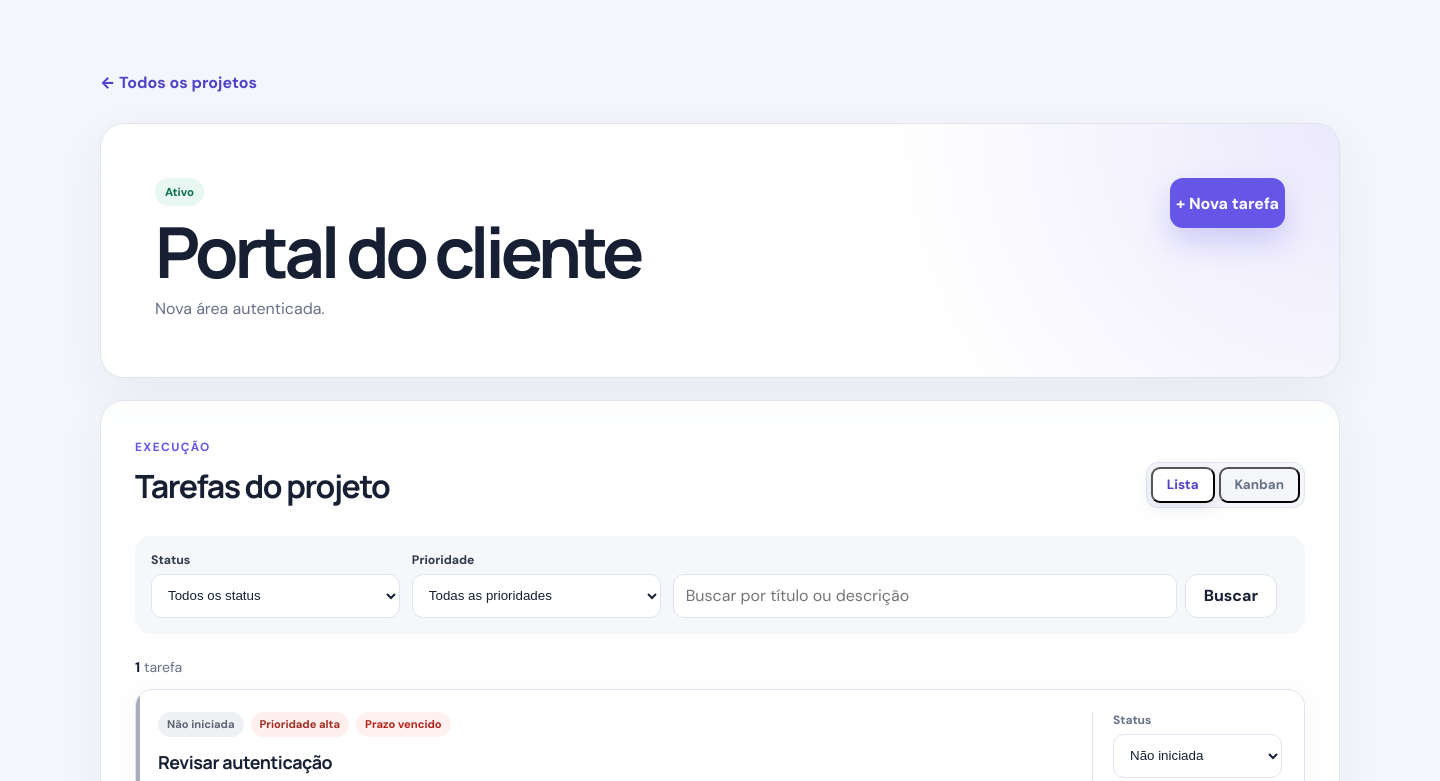
Test: ProjectWorkspacePage › loads every API page when the kanban view is opened
Click the button "Kanban" at (1259,485), box [1219,467,1300,503]
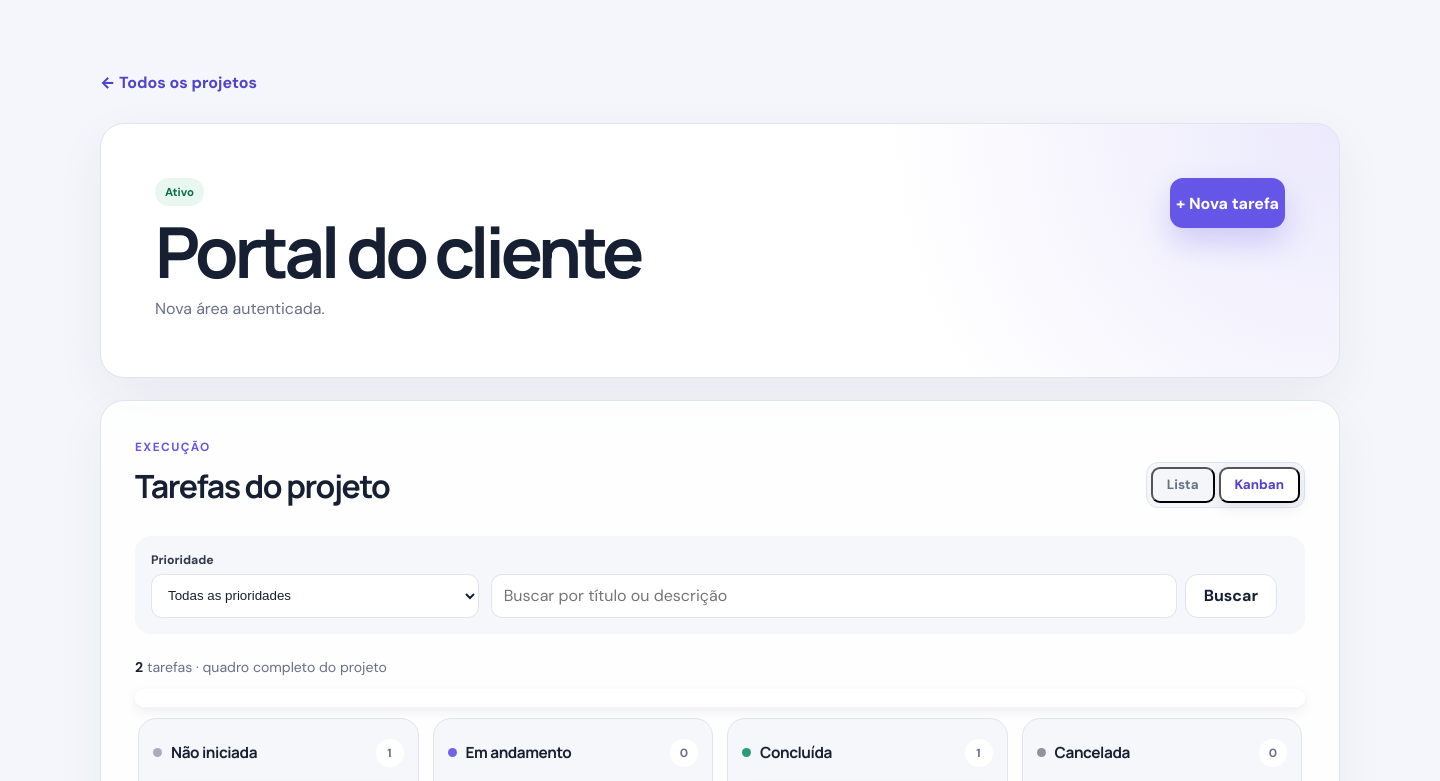
Expected: the heading "Não iniciada" is shown, [171,742,257,763]
Expected: the heading "Concluída" is shown, [760,742,832,763]
